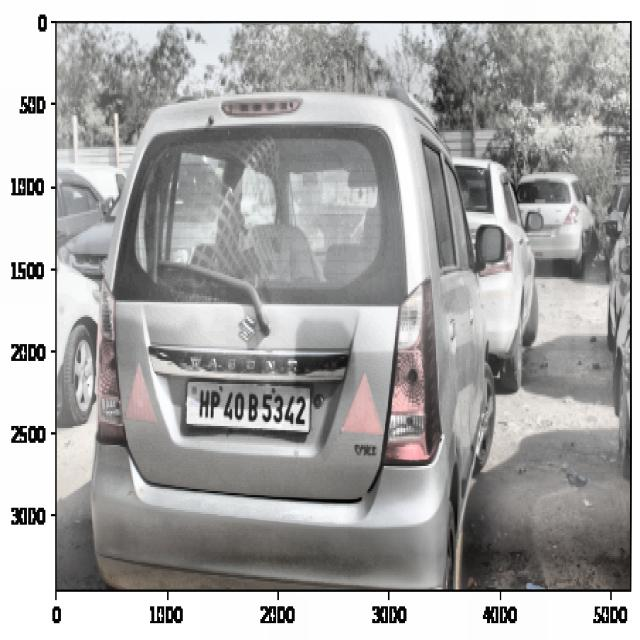license_plate: (194, 381, 310, 434)
